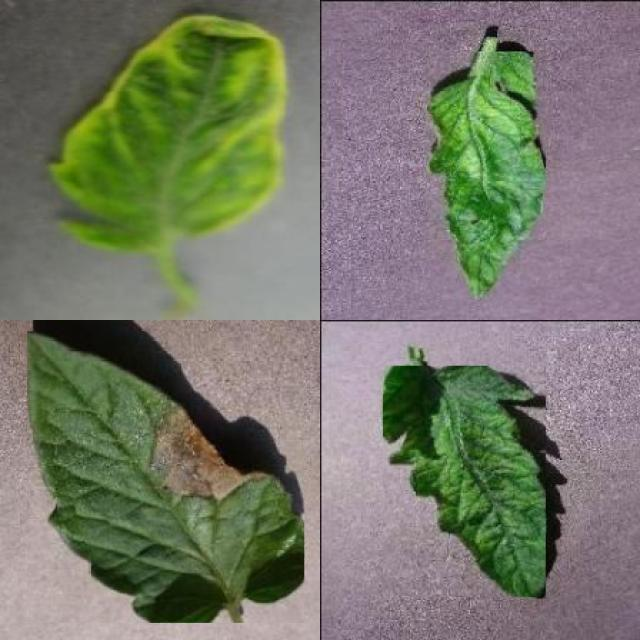Late Blight: (27, 331, 304, 623)
Mosaic Virus: (384, 366, 546, 598), (426, 51, 546, 302)
Yellow Leaf Curl Virus: (48, 13, 286, 256)
